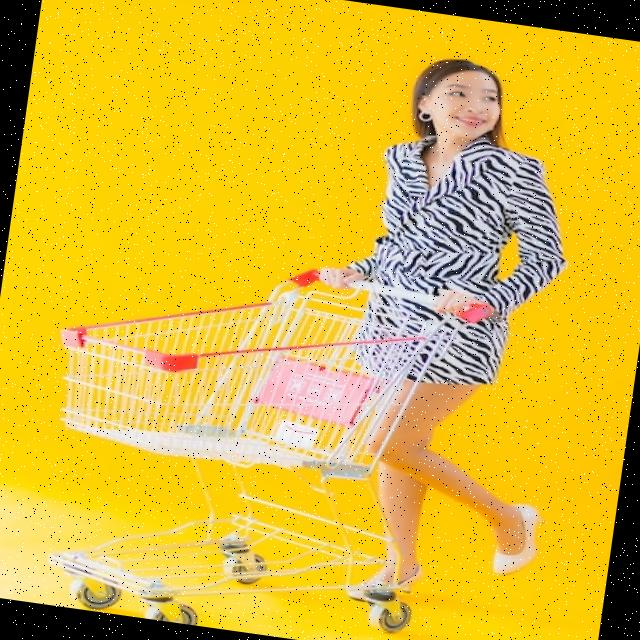Person: (274, 42, 607, 628)
